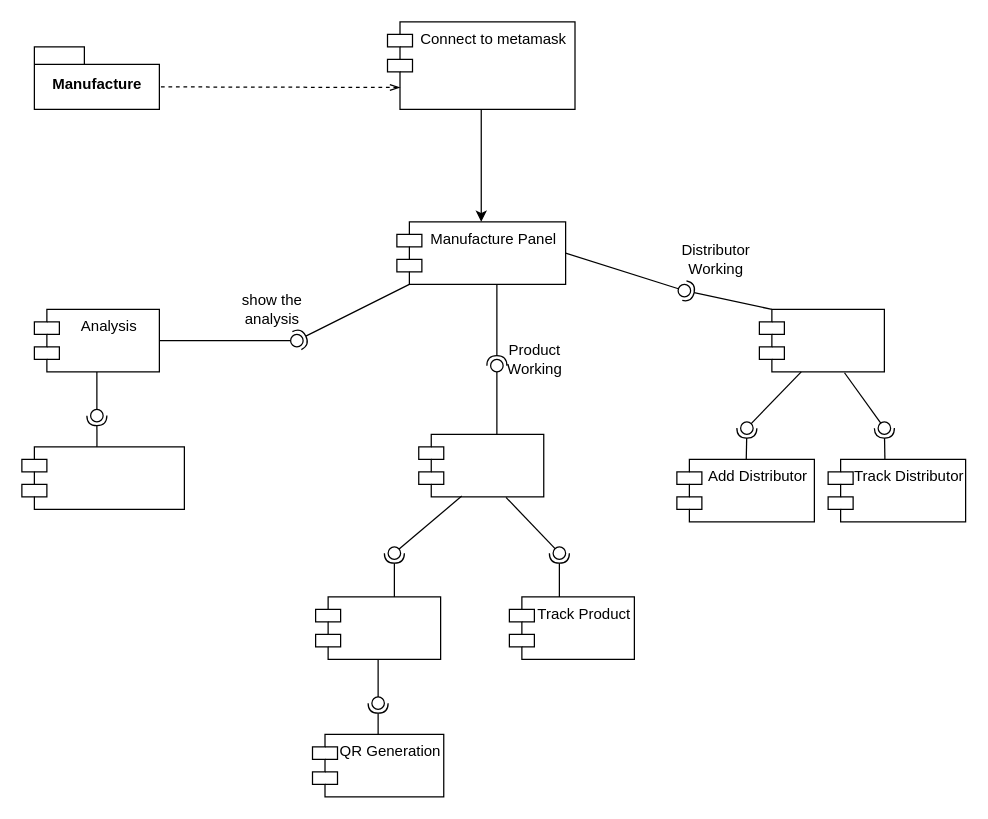
This 988x819 diagram has some shape labels left out. The box of each missing label's shape, as (x1, y1, x2, y2) in pixels:
Add Product: (314, 596, 441, 659)
Distributor: (758, 308, 884, 372)
FeedBack Form: (21, 446, 184, 509)
Products: (418, 433, 544, 497)
